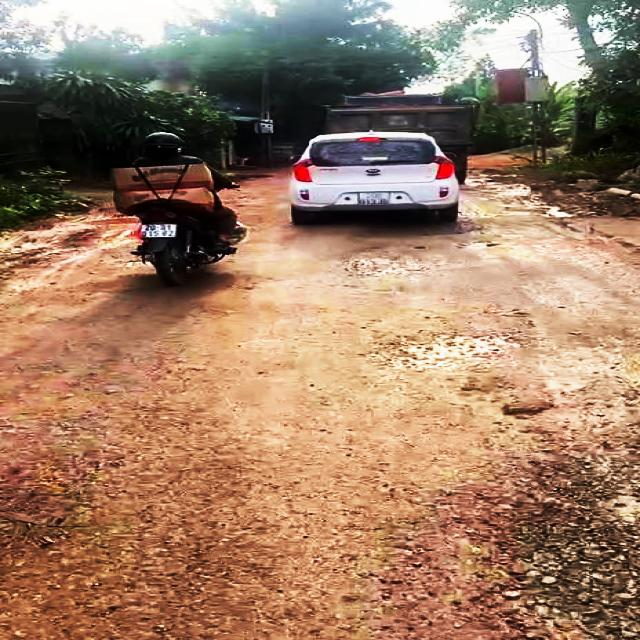pothole: (492, 489, 640, 640), (389, 329, 517, 378)
